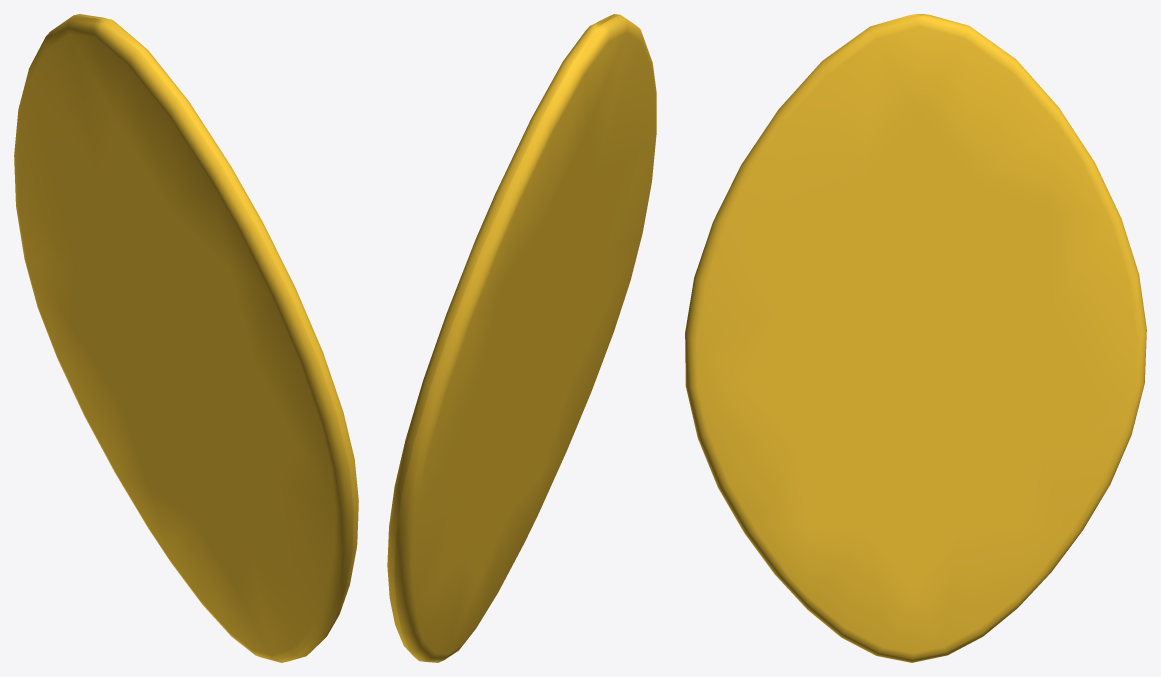
Rendered from fallLeaf_10.glb.
The picture shows the model from 3 angles, left to right: view 1: azimuth 30°, elevation 25°; view 2: azimuth 150°, elevation 25°; view 3: azimuth 270°, elevation 25°; orthographic projection. The views are drawn at different scales.
Visible parts, largest first — view 1: Leaf_YellowGreen_Wide.190; view 2: Leaf_YellowGreen_Wide.190; view 3: Leaf_YellowGreen_Wide.190.
Boxes of the visible parts, box(x1,y1,x2,y2) form: Leaf_YellowGreen_Wide.190: box(14, 14, 358, 662); Leaf_YellowGreen_Wide.190: box(387, 14, 656, 662); Leaf_YellowGreen_Wide.190: box(685, 14, 1146, 662).
Size of the model in its own units: 0.4794 by 1.74 by 1.25.
